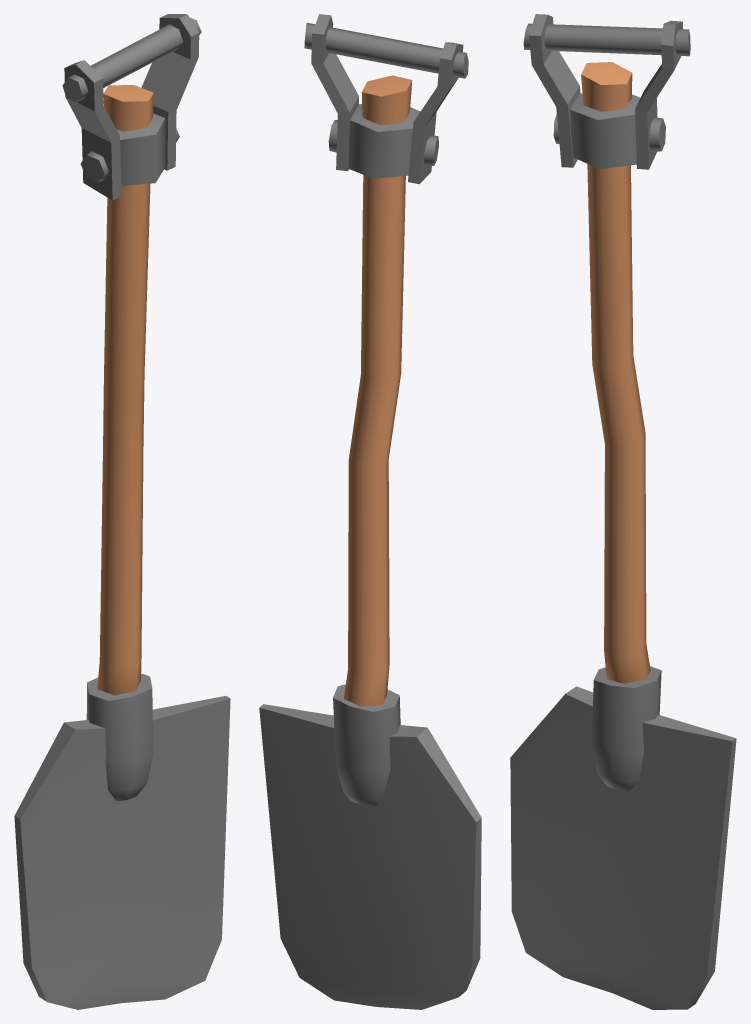
Rendered from SM_Shovel.fbx.
3 renders of one model, left to right at view 1: azimuth 30°, elevation 25°; view 2: azimuth 150°, elevation 25°; view 3: azimuth 330°, elevation 25°, orthographic.
Visible parts, largest first — view 1: SM_Shovel; view 2: SM_Shovel; view 3: SM_Shovel.
Boxes of the visible parts, x1=… form: SM_Shovel: x1=14, y1=14, x2=230, y2=1009; SM_Shovel: x1=259, y1=14, x2=481, y2=1009; SM_Shovel: x1=510, y1=14, x2=736, y2=1009.
Size of the model in its own units: 37.62 by 164 by 15.39.
